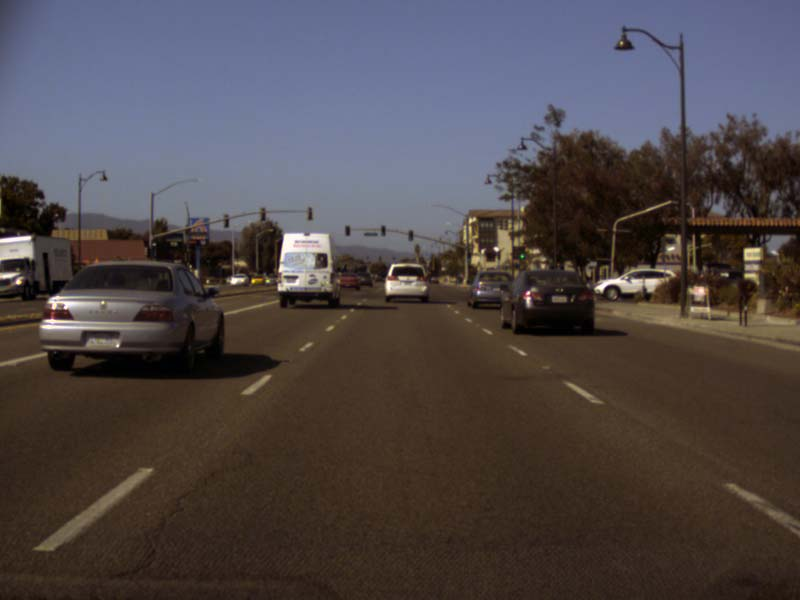Green: (380, 224, 386, 236), (519, 247, 525, 259), (345, 225, 350, 236), (408, 230, 413, 240), (467, 252, 471, 261)
